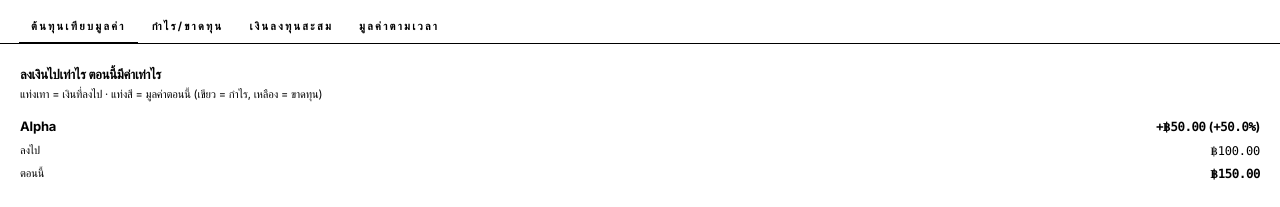
Test: CostVsValue history tab › an empty portfolio with no history says 0 days
Click the tab "มูลค่าตามเวลา".
click(399, 28)  # box 347,12 -> 451,44
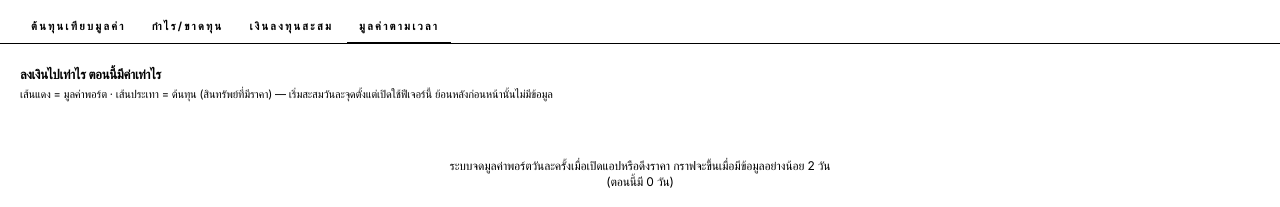
Result: the text "(ตอนนี้มี 0 วัน)" is shown at 448,158 -> 832,190
